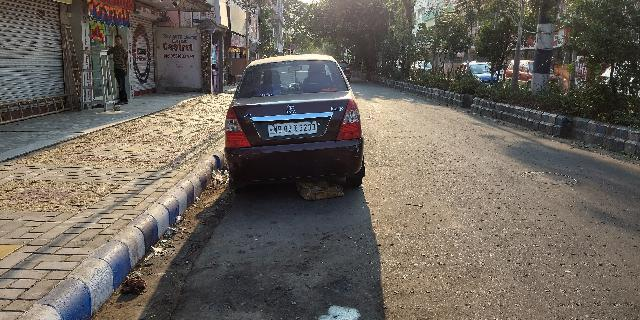Car: (216, 53, 372, 192)
